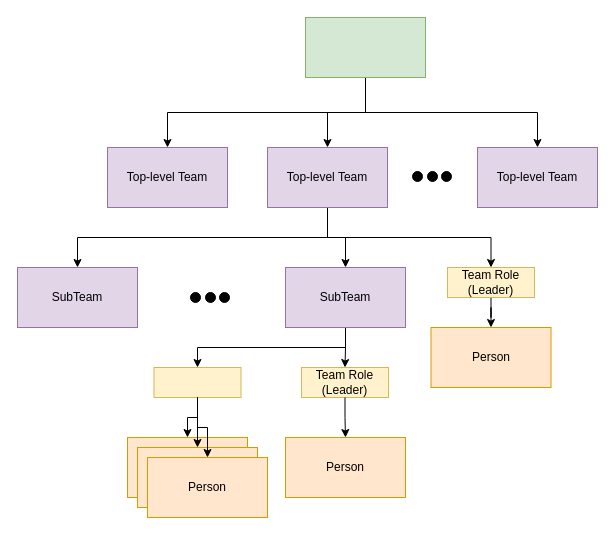
Image size: 615x535. Some labels were removed from this diagram. Here are the shapes that lost their labels. From the top down, the box of each, then its label:
(304, 16, 426, 78): Organization
(153, 366, 241, 398): Team Role (Member)
